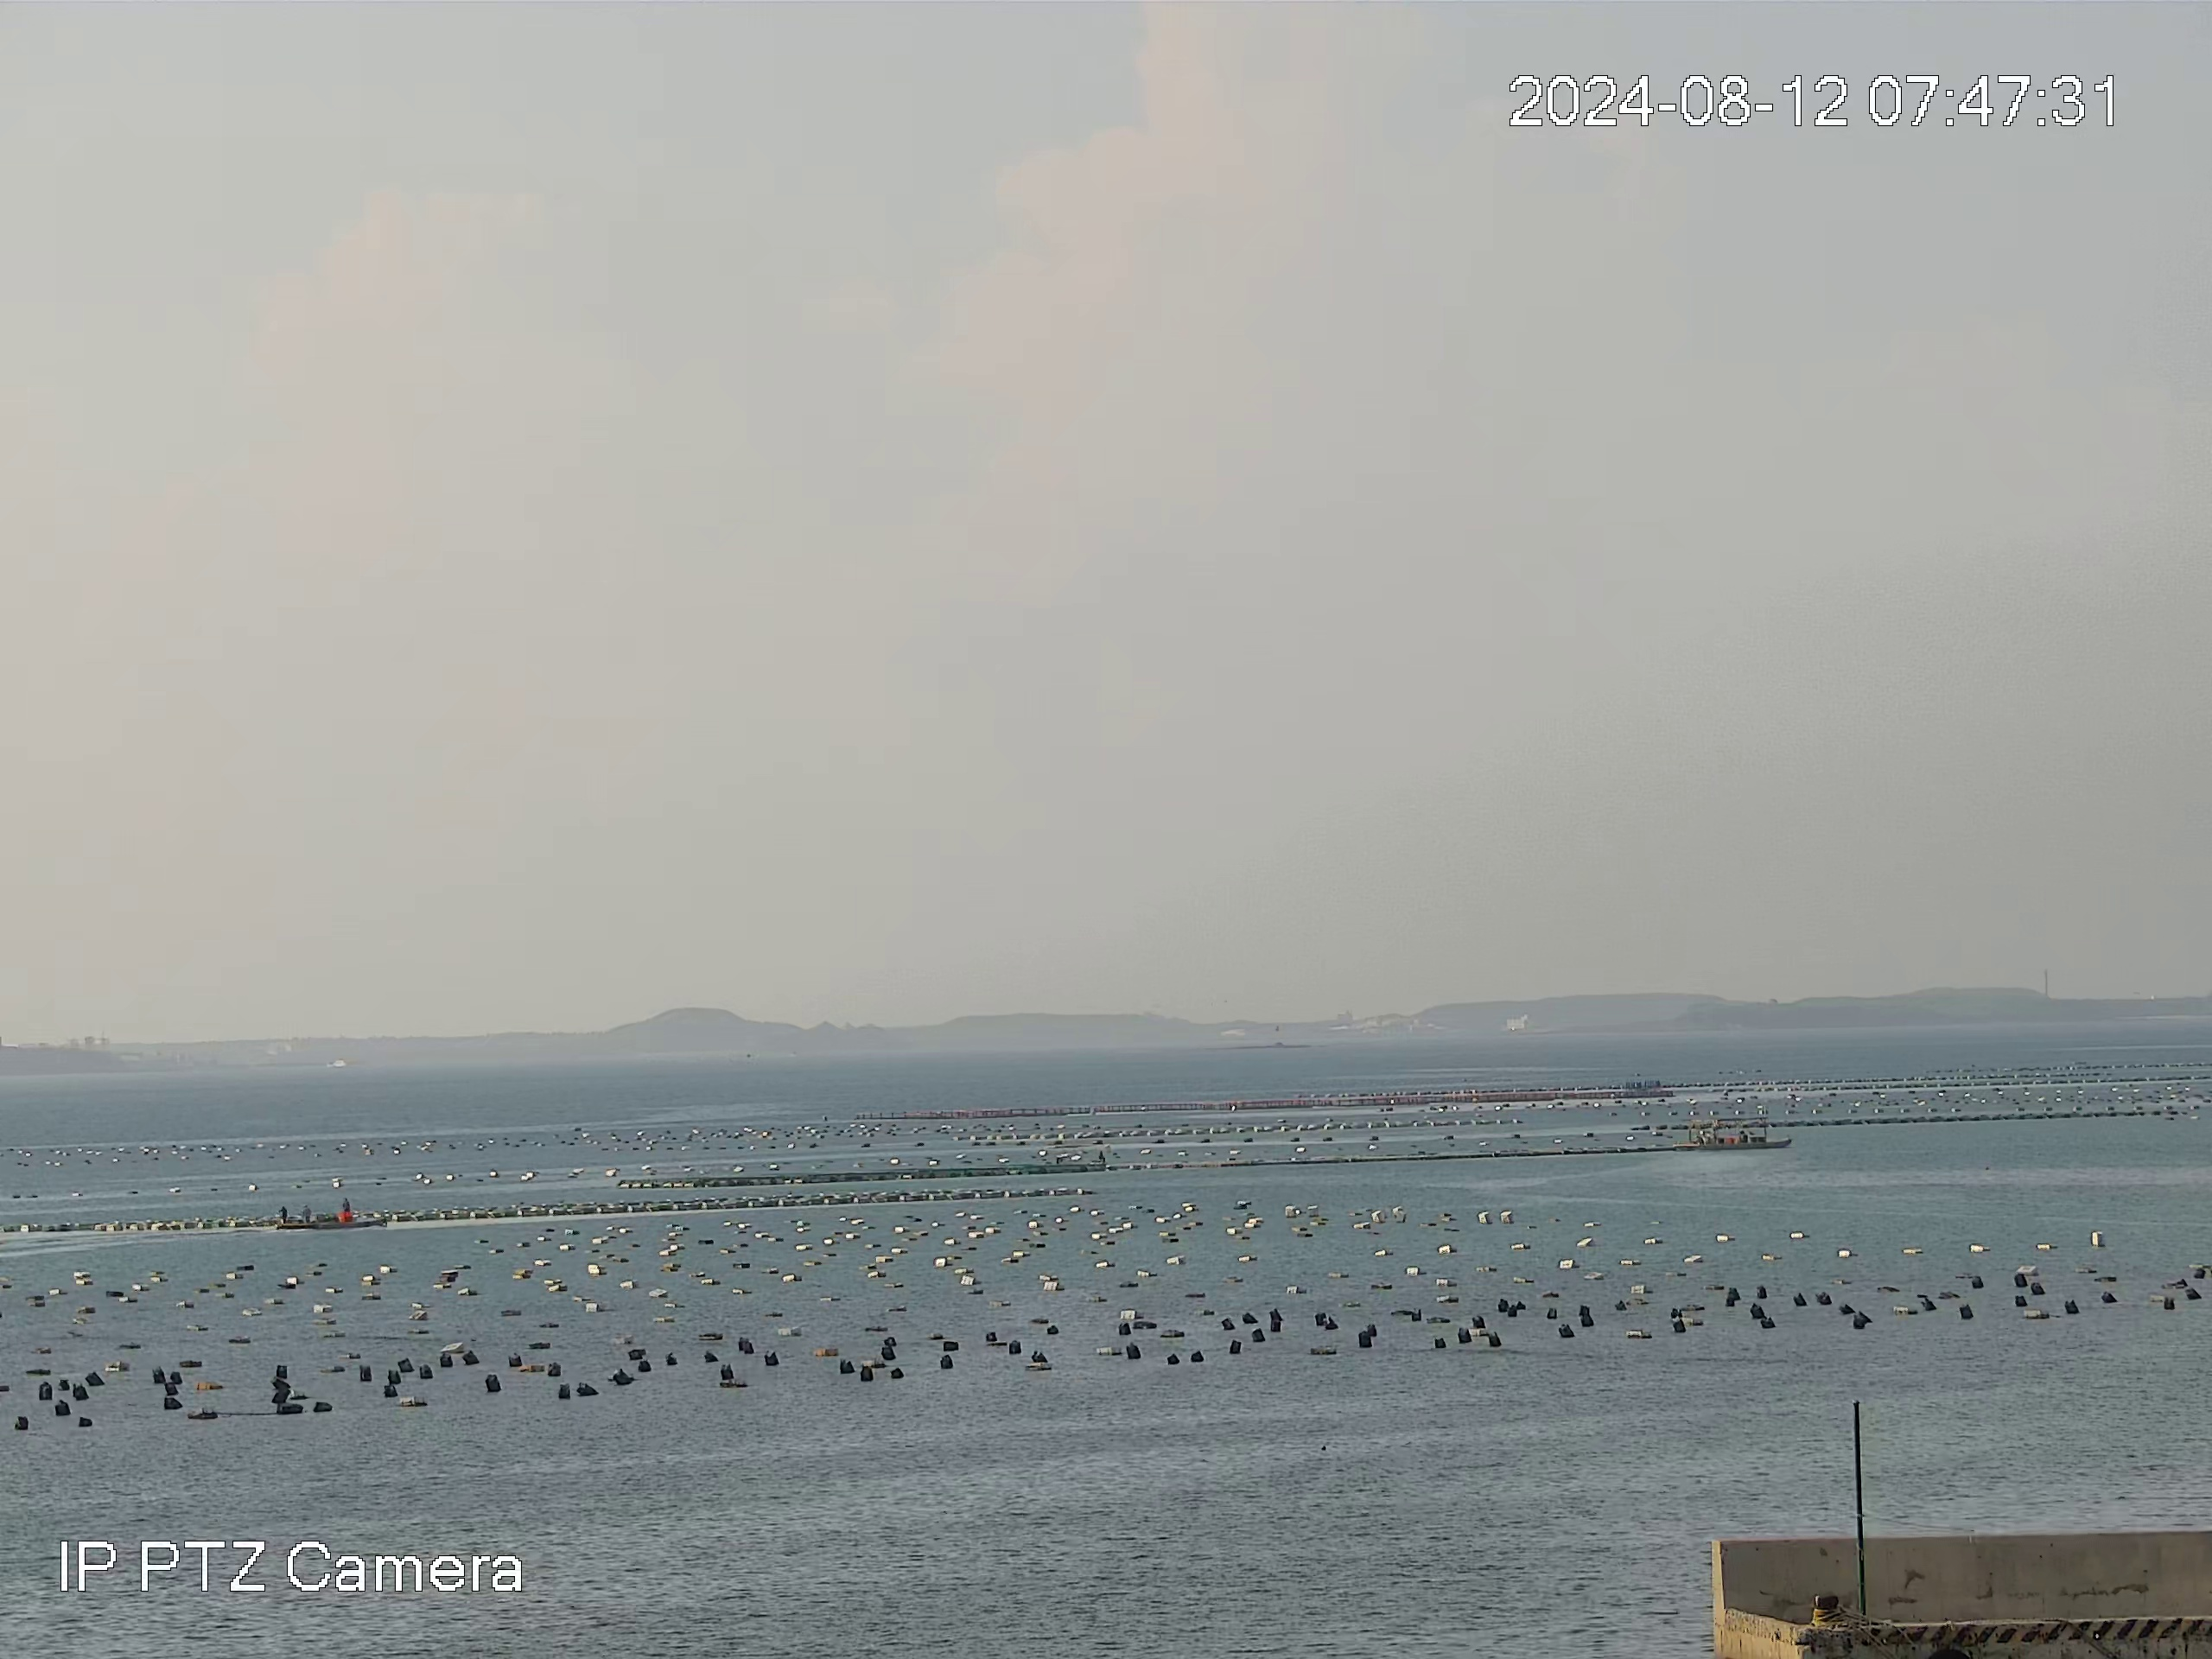boat: (277, 1197, 387, 1230), (1684, 1115, 1770, 1148)
